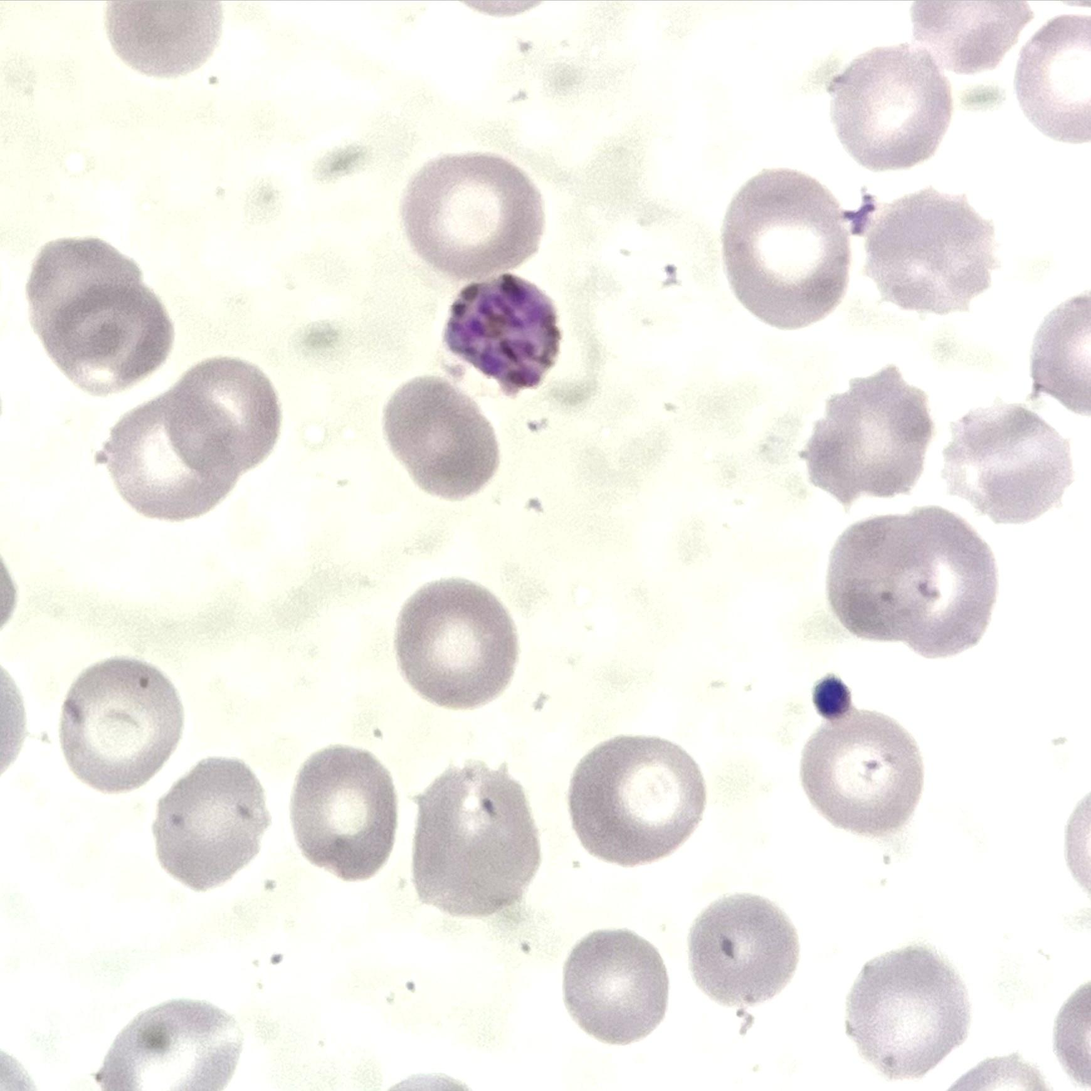Infected: (439, 277, 557, 393)
Uninfected: (827, 506, 993, 657), (24, 235, 174, 396), (717, 167, 857, 330), (409, 762, 542, 914), (566, 734, 707, 867), (403, 149, 546, 279), (862, 186, 999, 316), (803, 367, 933, 503), (59, 656, 185, 793), (391, 578, 519, 710), (845, 945, 968, 1078), (938, 402, 1070, 520), (828, 44, 950, 171), (152, 758, 271, 888), (799, 711, 922, 836), (289, 746, 402, 882), (163, 354, 282, 477), (381, 376, 500, 499), (686, 892, 802, 1010), (105, 405, 226, 518), (98, 999, 237, 1091), (560, 929, 670, 1043), (1015, 12, 1091, 140), (105, 1, 220, 78), (914, 0, 1028, 74), (1030, 290, 1089, 412)
